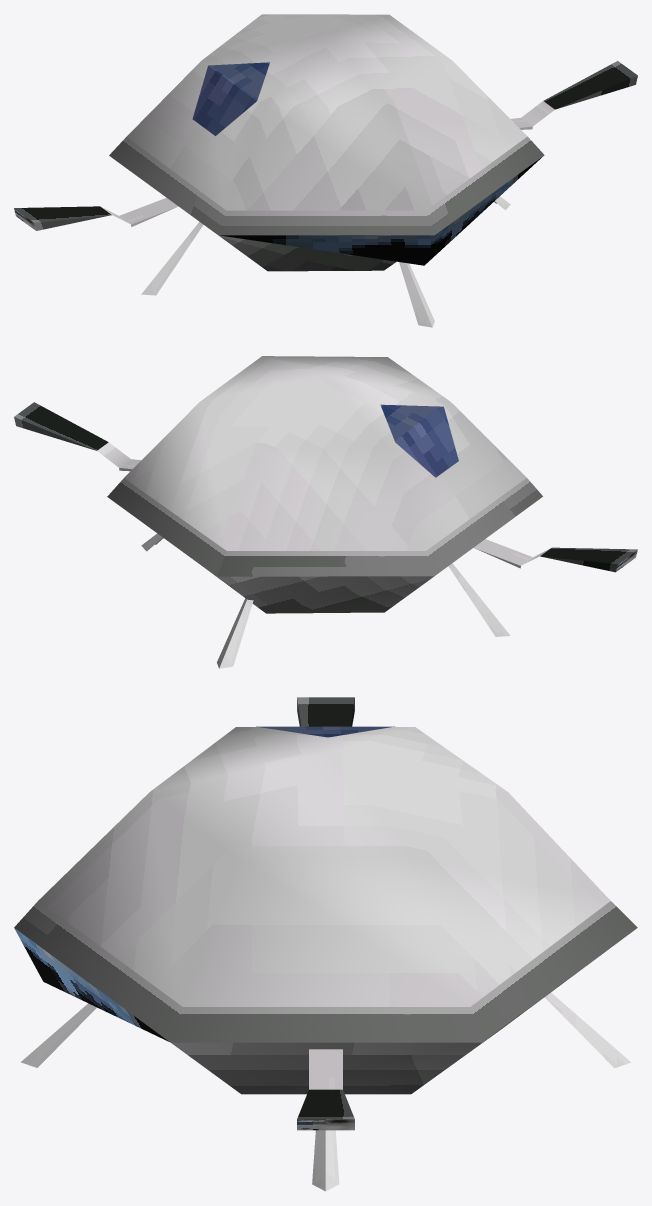
The model's file is edb_con_tureen_full_l2.fbx.
3 renders of one model, top to bottom at view 1: azimuth 30°, elevation 25°; view 2: azimuth 150°, elevation 25°; view 3: azimuth 270°, elevation 25°, orthographic. The views are drawn at different scales.
Parts seen in each view (by area): view 1: mesh_node; view 2: mesh_node; view 3: mesh_node.
Part boxes in pixels (<box>): mesh_node: <box>14,14,637,327</box>; mesh_node: <box>14,356,637,668</box>; mesh_node: <box>14,697,637,1191</box>.
Bounding box in the file's own units: 0.4271 × 0.1459 × 0.2671.
